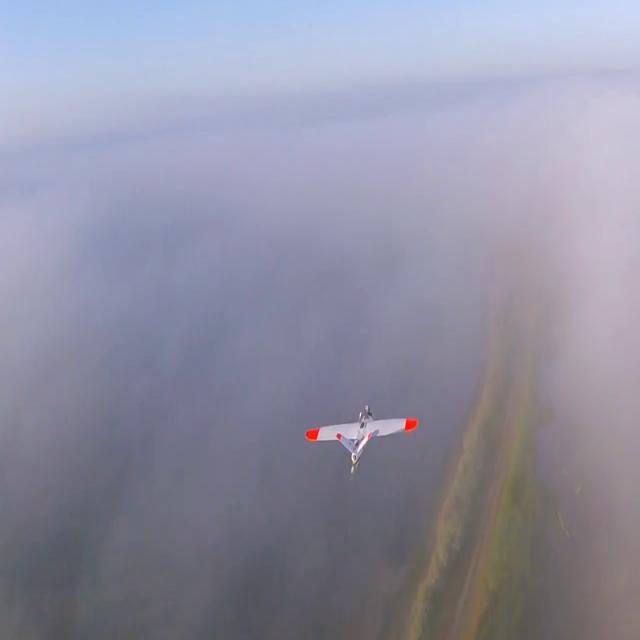iha: (334, 437, 388, 443)
